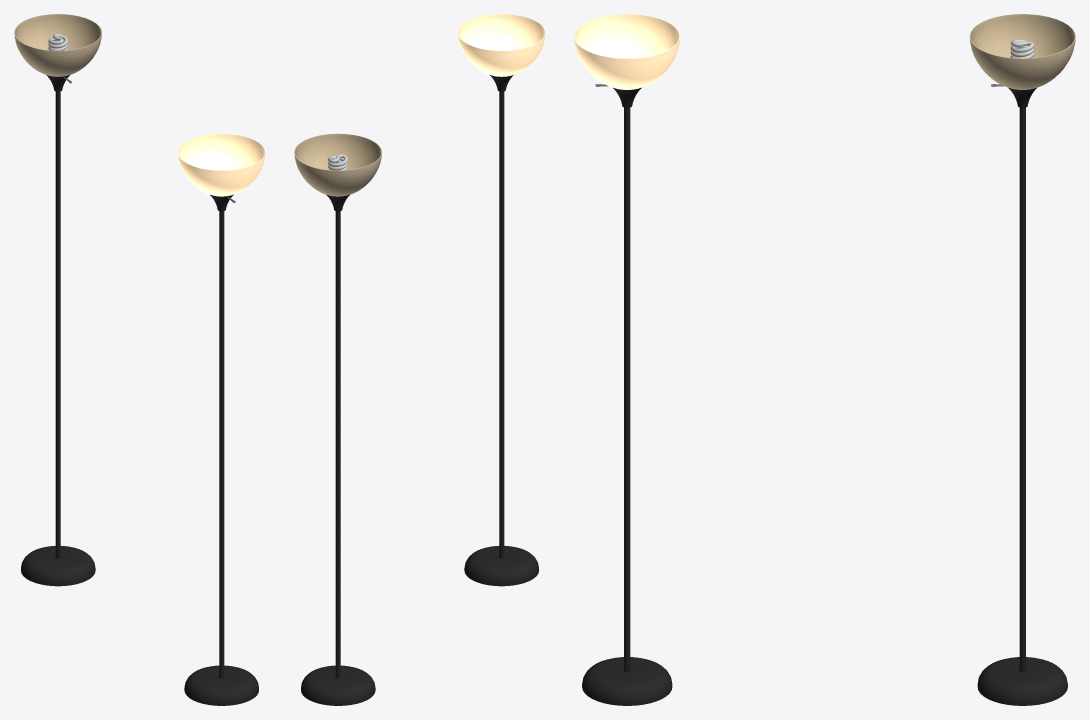
The model's file is lamp.glb.
3 renders of one model, left to right at view 1: azimuth 30°, elevation 25°; view 2: azimuth 150°, elevation 25°; view 3: azimuth 270°, elevation 25°, orthographic. The views are drawn at different scales.
Parts seen in each view (by area): view 1: StandingLampA, StandingLamp1; view 2: StandingLamp1, StandingLampA; view 3: StandingLampA, StandingLamp1.
Part boxes in pixels (x1,y1,x2,y2): StandingLampA: [178, 133, 265, 705]; StandingLamp1: [14, 14, 101, 586]; StandingLamp1: [294, 133, 381, 705]; StandingLampA: [458, 14, 545, 586]; StandingLampA: [574, 14, 680, 705]; StandingLamp1: [969, 14, 1075, 705].
Bounding box in the file's own units: 0.2686 × 1.81 × 1.27.
2 materials, 2 textured.
